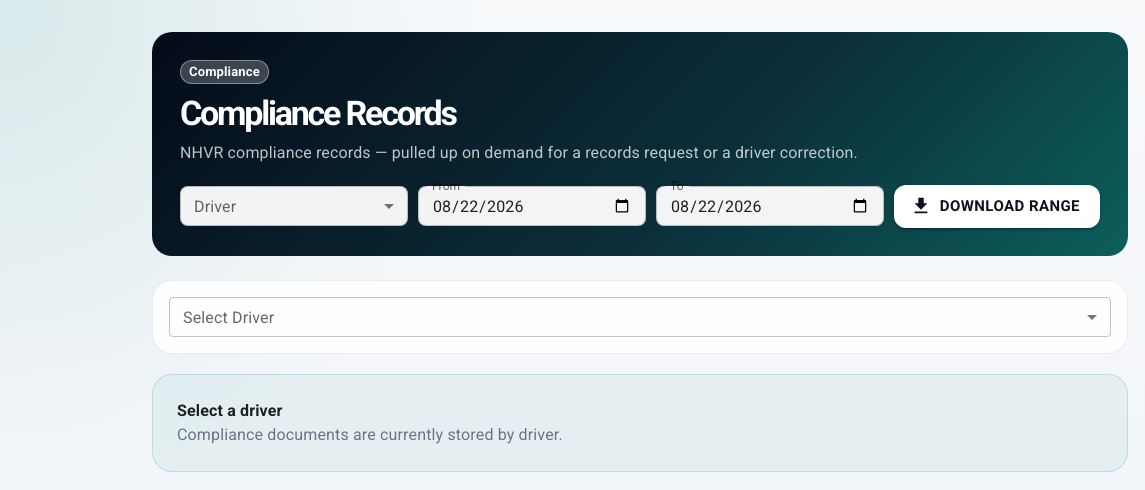
Test: admin WorkDiary — driver history section › PASS: an archived driver still appears in both driver dropdowns, visibly marked '(archived)' — NHVR requests can name someone who's since left
Expected: the text "Select a driver" is shown, top-left (177, 400), bottom-right (282, 420)
The history filter's "Select Driver".
Click the dropdown named "Select Driver" next to "Select Driver": (640, 316) top-left (169, 296), bottom-right (1111, 336)
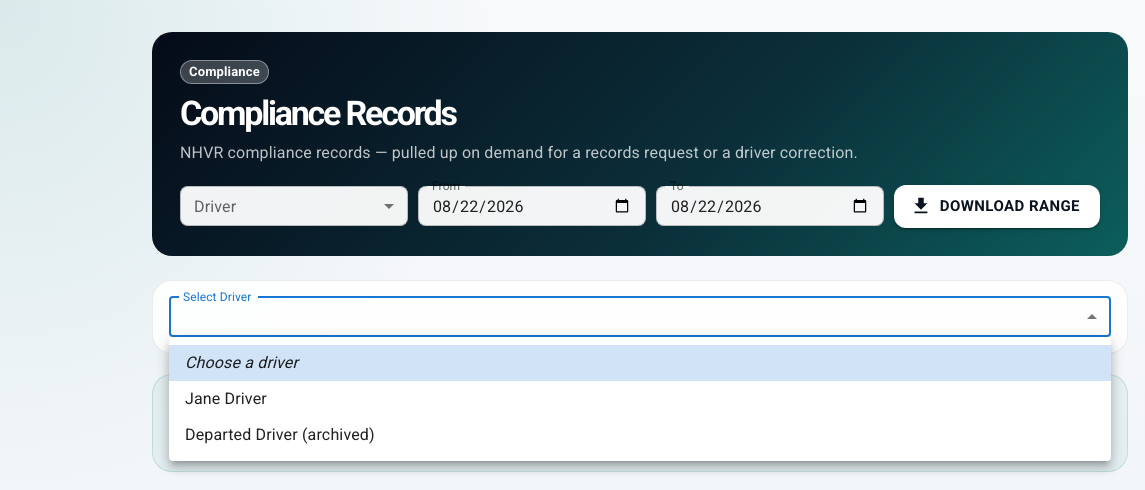
Expected: the option "Jane Driver" is shown
Expected: the option "Departed Driver (archived)" is shown, top-left (185, 425), bottom-right (375, 444)
Click the option "Jane Driver": (226, 398) top-left (185, 389), bottom-right (267, 408)
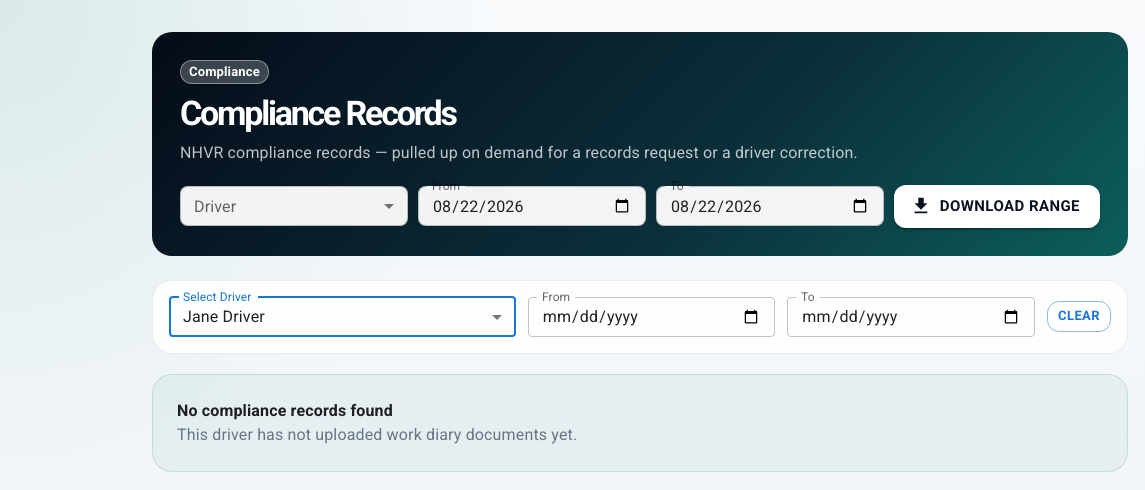
The date-range download's own "Driver" select.
Click the dropdown named "Driver": (294, 206) top-left (180, 186), bottom-right (408, 226)
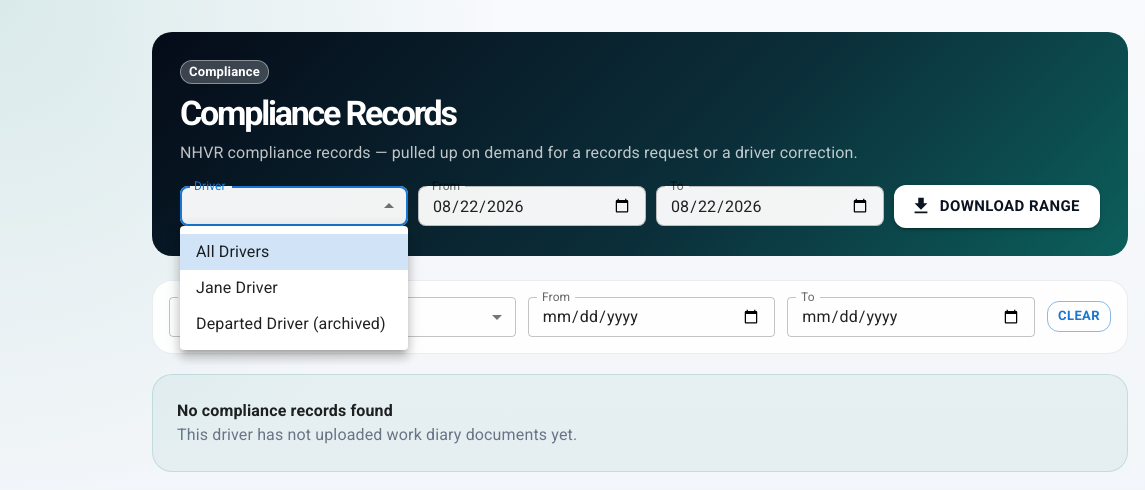
Expected: the option "Departed Driver (archived)" is shown, top-left (196, 314), bottom-right (386, 333)
